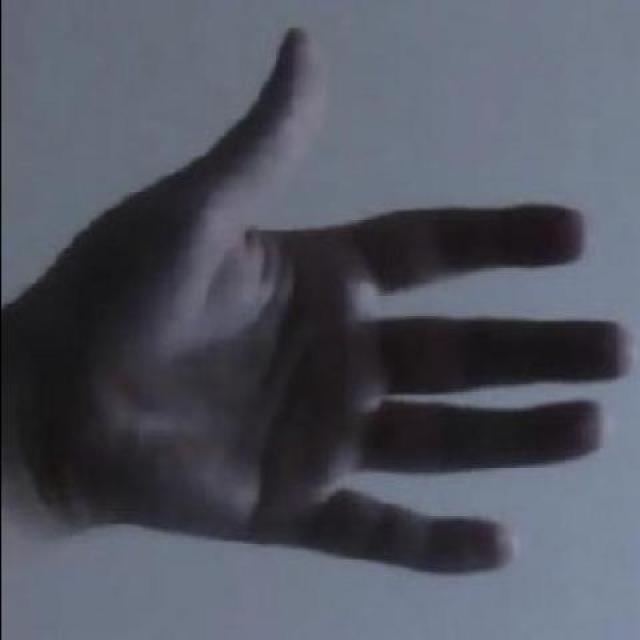Open Hand: (0, 31, 633, 581)
